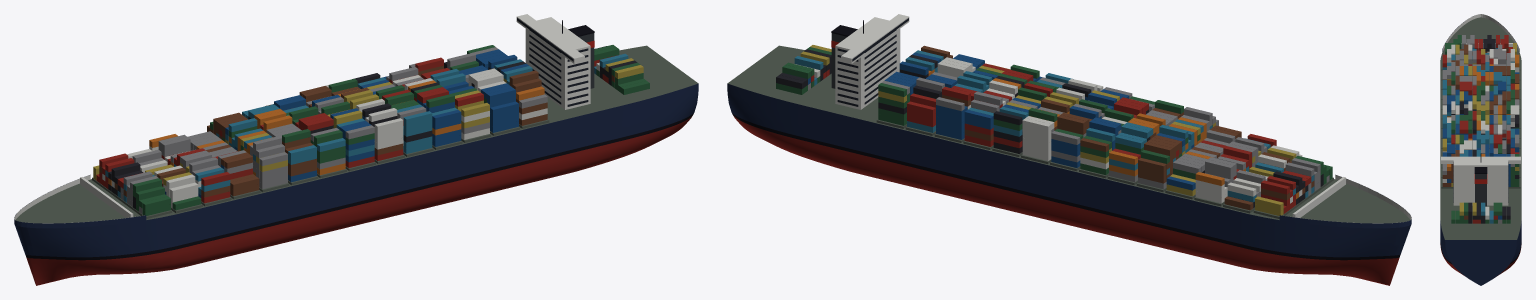
Rendered from container_ship.glb.
3 views of the same model, side by side, from view 1: azimuth 30°, elevation 25°; view 2: azimuth 150°, elevation 25°; view 3: azimuth 270°, elevation 25° (orthographic). The views are drawn at different scales.
Parts seen in each view (by area): view 1: container_ship; view 2: container_ship; view 3: container_ship.
Part boxes in pixels (box(x1,y1,x2,y2)): container_ship: box(14, 14, 698, 285); container_ship: box(727, 14, 1411, 285); container_ship: box(1440, 14, 1521, 285).
Bounding box in the file's own units: 310 × 61.85 × 48.01.
